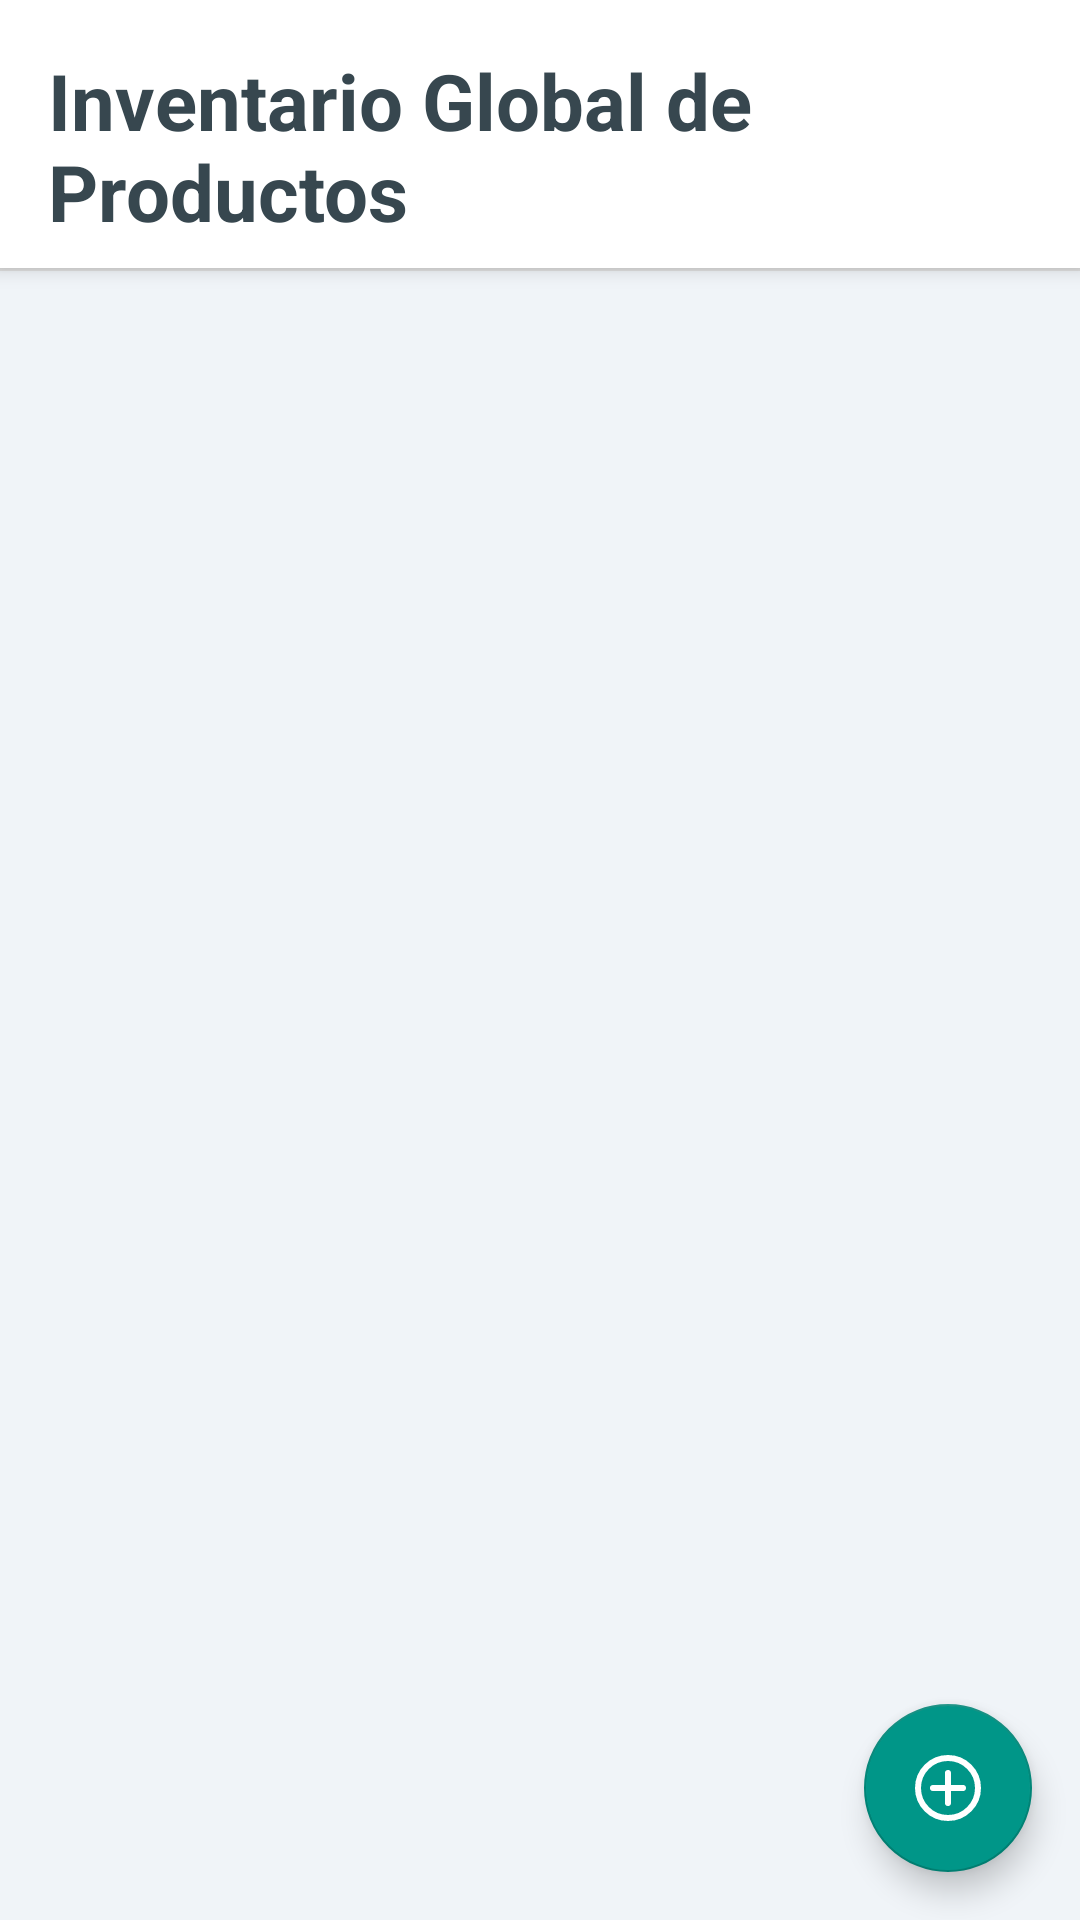

Icons on this 1080 x 1920 Android screen, each with the point to tap as (x,y):
Agregar nuevo producto: (948,1788)
